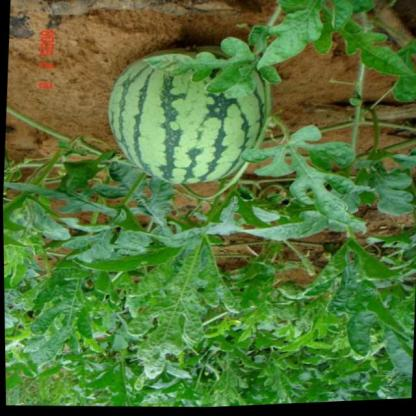watermelon: (102, 38, 276, 192)
